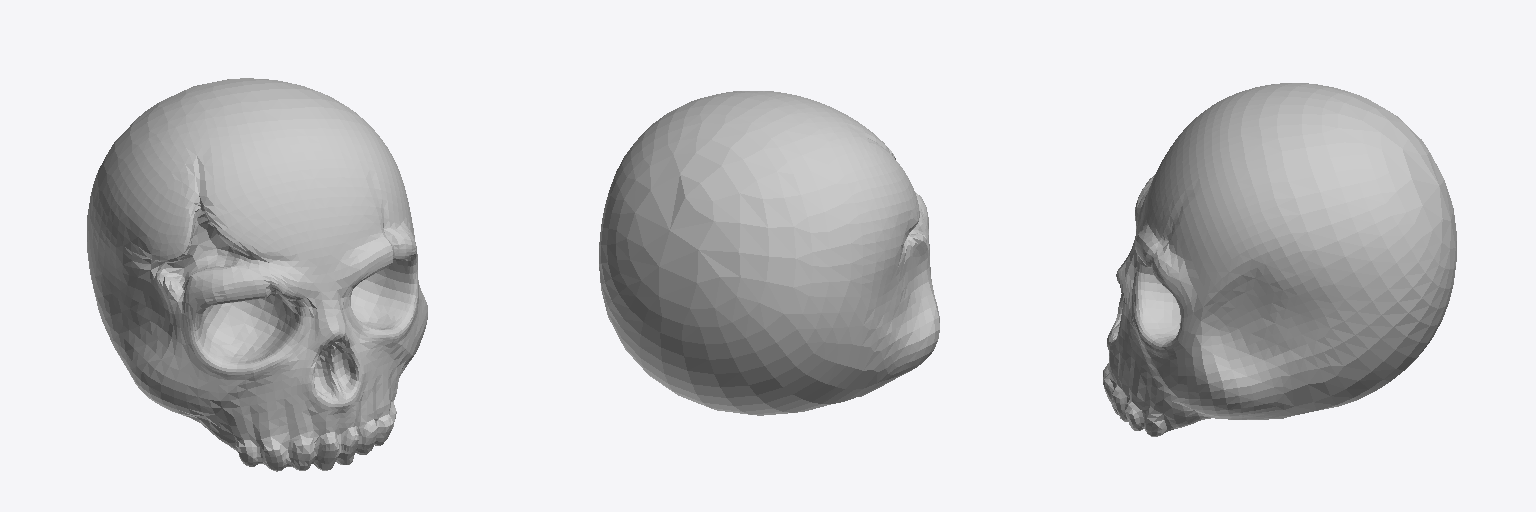
File: NewSkuLP.obj
3 renders of one model, left to right at view 1: azimuth 30°, elevation 25°; view 2: azimuth 150°, elevation 25°; view 3: azimuth 270°, elevation 25°, orthographic.
Parts seen in each view (by area): view 1: SkuLP; view 2: SkuLP; view 3: SkuLP.
Boxes of the visible parts, <box> form: SkuLP: <box>87,78,427,471</box>; SkuLP: <box>599,91,939,415</box>; SkuLP: <box>1103,83,1456,436</box>.
Size of the model in its own units: 0.8536 by 0.8922 by 0.9301.